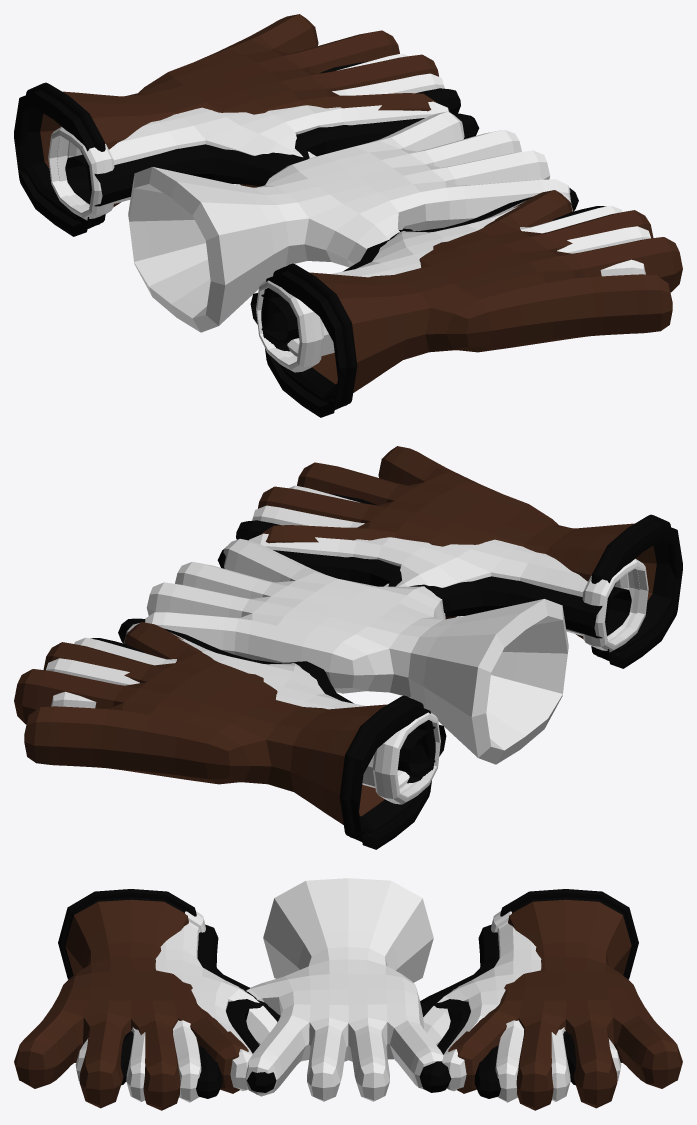
The model's file is Guantes Cuero.fbx.
3 views of the same model, one above another, from view 1: azimuth 30°, elevation 25°; view 2: azimuth 150°, elevation 25°; view 3: azimuth 270°, elevation 25° (orthographic). The views are drawn at different scales.
Visible parts, largest first — view 1: Guante Cuero, Guante Genérico, Guante Algodón, Guante Nitrilo; view 2: Guante Cuero, Guante Genérico, Guante Algodón, Guante Nitrilo; view 3: Guante Cuero, Guante Genérico, Guante Algodón, Guante Nitrilo.
Part boxes in pixels (x1=…): Guante Cuero: x1=14, y1=14, x2=682, y2=417; Guante Genérico: x1=128, y1=111, x2=571, y2=332; Guante Algodón: x1=48, y1=53, x2=650, y2=372; Guante Nitrilo: x1=65, y1=61, x2=606, y2=341; Guante Cuero: x1=14, y1=446, x2=682, y2=849; Guante Genérico: x1=145, y1=538, x2=568, y2=764; Guante Algodón: x1=46, y1=485, x2=648, y2=804; Guante Nitrilo: x1=90, y1=493, x2=631, y2=773; Guante Cuero: x1=14, y1=889, x2=682, y2=1110; Guante Genérico: x1=245, y1=878, x2=443, y2=1101; Guante Algodón: x1=75, y1=911, x2=621, y2=1102; Guante Nitrilo: x1=120, y1=924, x2=576, y2=1098.
Bounding box in the file's own units: 24.63 × 8.58 × 43.49.
